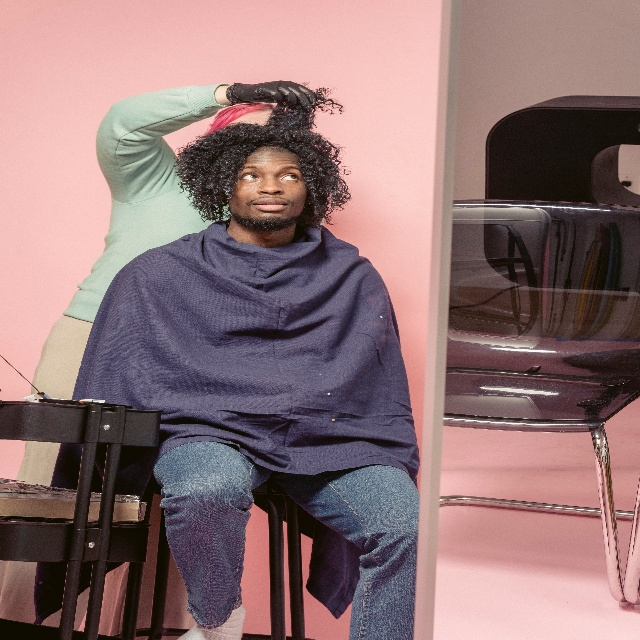Guantes: (225, 80, 316, 113)
